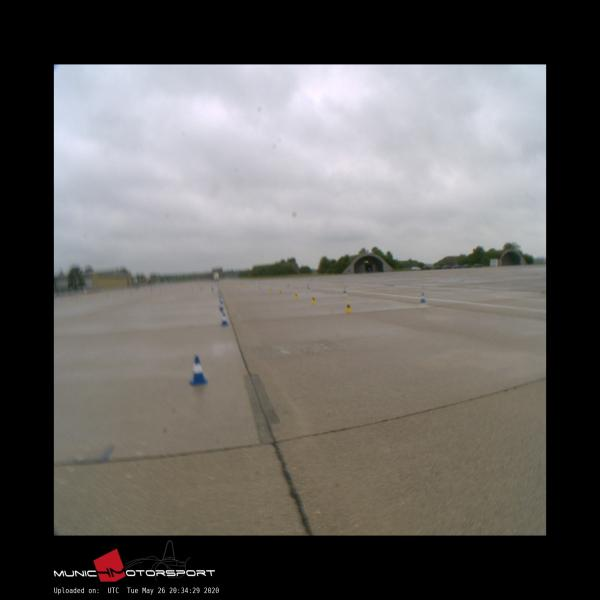blue_cone: (190, 356, 207, 384), (221, 314, 228, 325)
yellow_cone: (346, 301, 352, 312), (312, 296, 316, 304)
